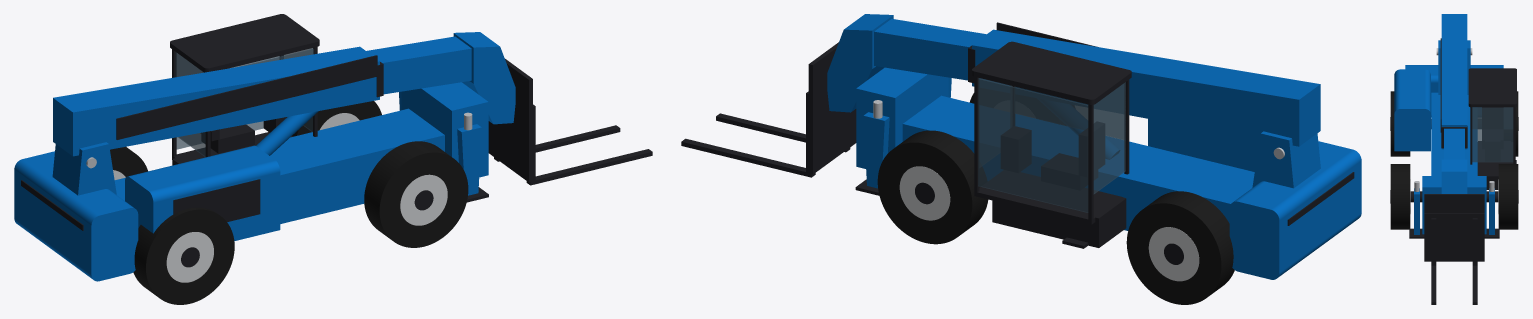
The model's file is Telehandler_10000lb_56ft.glb.
The picture shows the model from 3 angles, left to right: view 1: azimuth 30°, elevation 25°; view 2: azimuth 150°, elevation 25°; view 3: azimuth 270°, elevation 25°; orthographic projection. The views are drawn at different scales.
Parts seen in each view (by area): view 1: boom_base_4adea1, boom_hose_tray_8a4d02, frame_9ed76c, boom_base_ddc7cc, frame_de20df, front_tyre_-1_776cd3, rear_tyre_-1_cd9b0d, cab_roof_543ed0, counterweight, counterweight_7c06d2, boom_inner_40b700, engine_hood_9fd250 (+33 smaller); view 2: cab_glass_door_fc8e85, cab_glass_door_be4c25, frame_9ed76c, boom_base_6f13e7, boom_base_ddc7cc, front_tyre_1, rear_tyre_1_745e42, cab_roof_543ed0, counterweight, counterweight_af98fe, engine_hood_184fc6, boom_inner_af2cd3 (+36 smaller); view 3: boom_base_ddc7cc, carriage_frame_cc436c, cab_glass_front_05e067, cab_glass_front, cab_roof_543ed0, engine_hood_da9384, frame_9ed76c, front_tyre_-1_b50b61, front_tyre_1_3c2a9e, carriage_backrest_aa966f, engine_hood_68154f, cab_floor_c9cca6 (+28 smaller).
Part boxes in pixels (x1,y1,x2,y2): boom_base_4adea1: (73, 61, 379, 156); boom_hose_tray_8a4d02: (117, 55, 377, 139); frame_9ed76c: (114, 108, 444, 200); boom_base_ddc7cc: (53, 46, 379, 112); frame_de20df: (280, 135, 444, 223); front_tyre_-1_776cd3: (379, 152, 468, 247); rear_tyre_-1_cd9b0d: (146, 209, 234, 304); cab_roof_543ed0: (170, 14, 319, 68); counterweight: (14, 151, 134, 274); counterweight_7c06d2: (91, 208, 138, 281); boom_inner_40b700: (382, 48, 471, 94); engine_hood_9fd250: (153, 172, 280, 241); cab_glass_door_fc8e85: (978, 79, 1088, 212); cab_glass_door_be4c25: (979, 79, 1087, 211); frame_9ed76c: (903, 95, 1254, 203); boom_base_6f13e7: (972, 45, 1299, 146); boom_base_ddc7cc: (972, 29, 1320, 99); front_tyre_1: (877, 142, 972, 244); rear_tyre_1_745e42: (1126, 203, 1221, 304); cab_roof_543ed0: (972, 41, 1131, 99); counterweight: (1234, 141, 1361, 272); counterweight_af98fe: (1229, 201, 1279, 279); engine_hood_184fc6: (1148, 119, 1259, 171); boom_inner_af2cd3: (874, 31, 968, 80); boom_base_ddc7cc: (1441, 14, 1467, 124); carriage_frame_cc436c: (1424, 213, 1484, 261); cab_glass_front_05e067: (1472, 108, 1513, 162); cab_glass_front: (1472, 108, 1512, 161); cab_roof_543ed0: (1468, 68, 1516, 104); engine_hood_da9384: (1394, 109, 1430, 151); frame_9ed76c: (1431, 92, 1477, 175); front_tyre_-1_b50b61: (1390, 164, 1410, 229); front_tyre_1_3c2a9e: (1498, 164, 1518, 229); carriage_backrest_aa966f: (1424, 195, 1484, 212); engine_hood_68154f: (1400, 69, 1424, 108); cab_floor_c9cca6: (1477, 142, 1513, 176).
Size of the model in its own units: 8.73 by 2.59 by 2.6.
